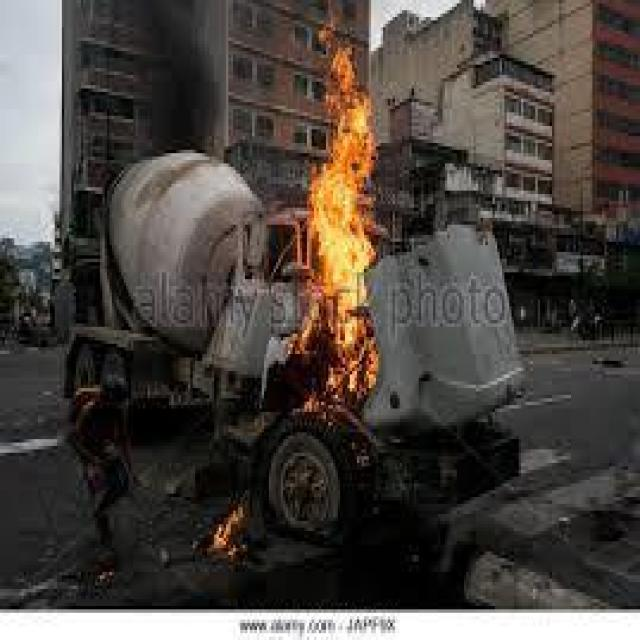fire: (302, 28, 381, 395), (201, 474, 265, 559)
